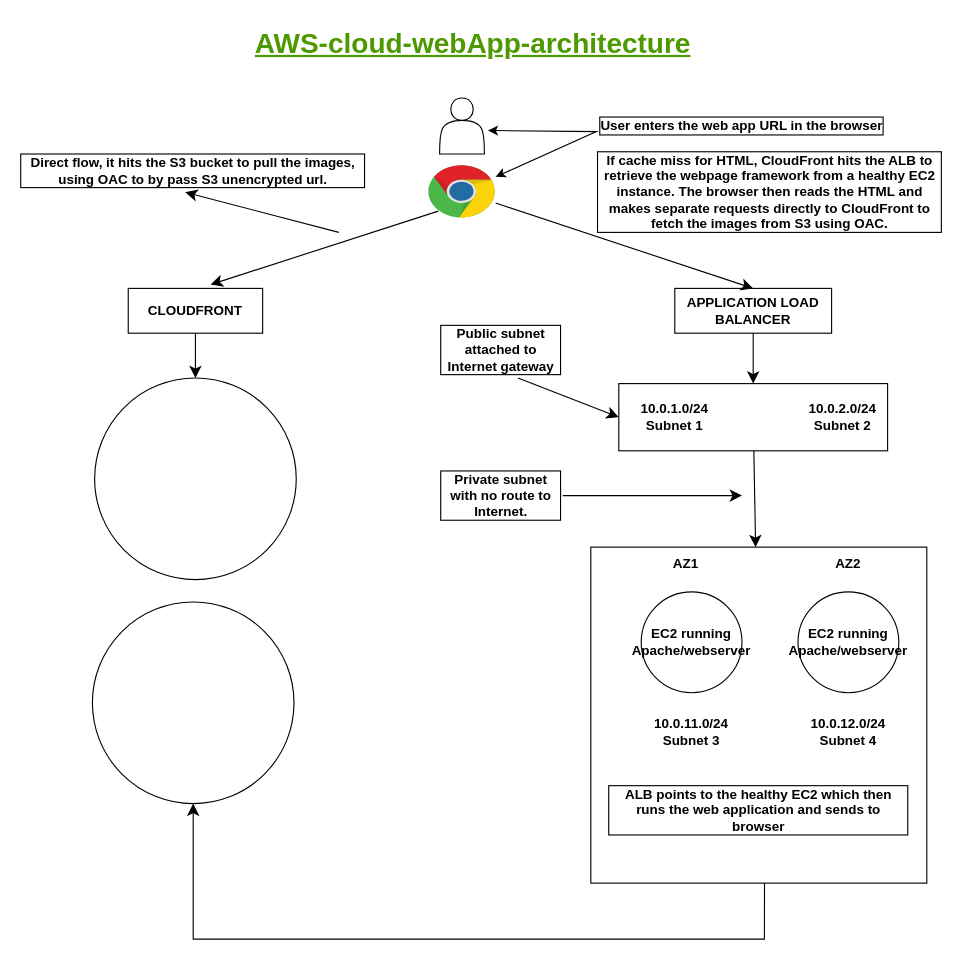
This 962x970 diagram has some shape labels left out. Each missing label, with the box of its shape:
S3 bucket via public network: (94, 377, 296, 580)
S3 bucket via VPC s3 gateway endpoint. keeps S3 private inside AWS: (91, 601, 294, 804)
